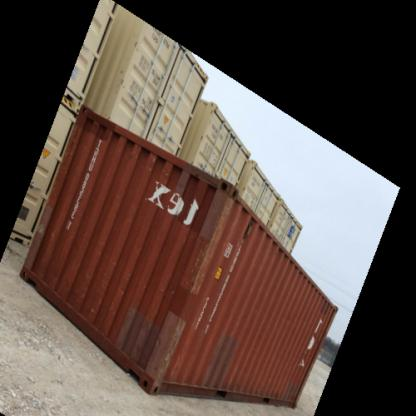Damage: (143, 308, 186, 374), (186, 236, 217, 289), (207, 178, 231, 236), (152, 159, 177, 181)
